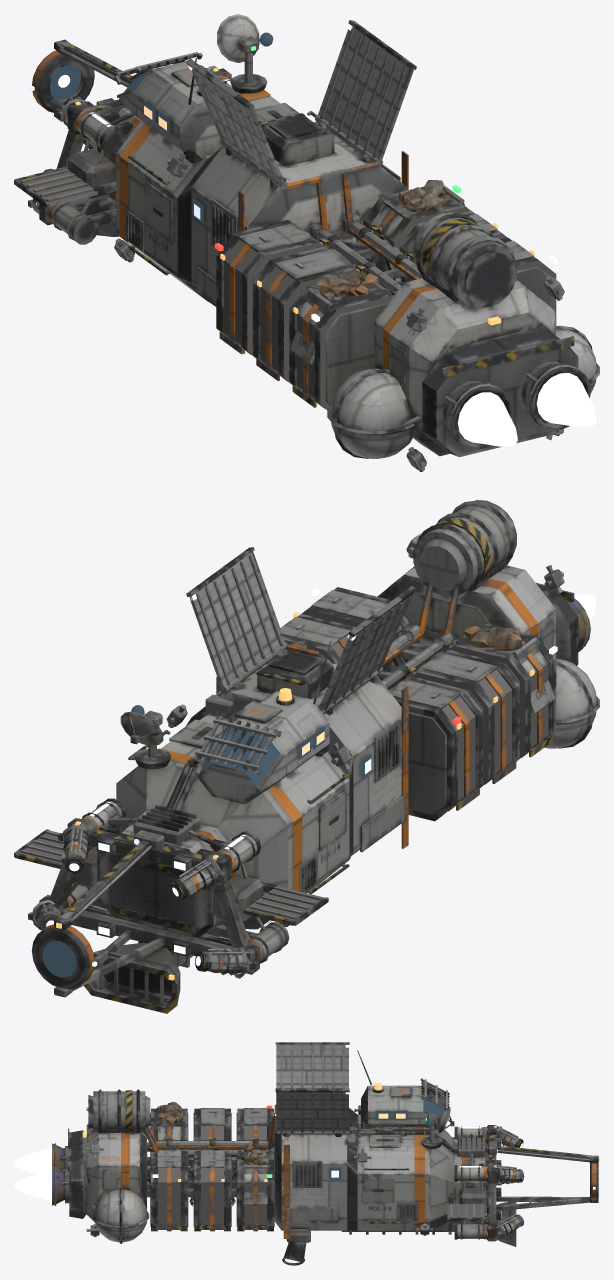
File: miner_hauler.glb
3 renders of one model, top to bottom at view 1: azimuth 30°, elevation 25°; view 2: azimuth 150°, elevation 25°; view 3: azimuth 270°, elevation 25°, orthographic. The views are drawn at different scales.
Visible parts, largest first — view 1: miner_hauler_hull, engine_glow; view 2: miner_hauler_hull; view 3: miner_hauler_hull, engine_glow.
Part boxes in pixels (x1,y1,x2,y2): miner_hauler_hull: (14, 14, 599, 471); engine_glow: (458, 373, 596, 446); miner_hauler_hull: (14, 500, 599, 1013); miner_hauler_hull: (52, 1042, 599, 1265); engine_glow: (14, 1147, 51, 1201).
Bounding box in the file's own units: 5.57 × 5.72 × 16.97.
Materials: 10 (1 with a texture image).
